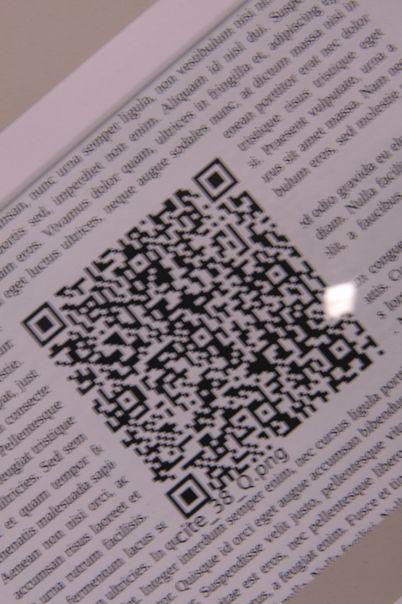Finder pattern: (193, 157, 241, 204), (165, 474, 213, 520), (22, 303, 66, 350)
